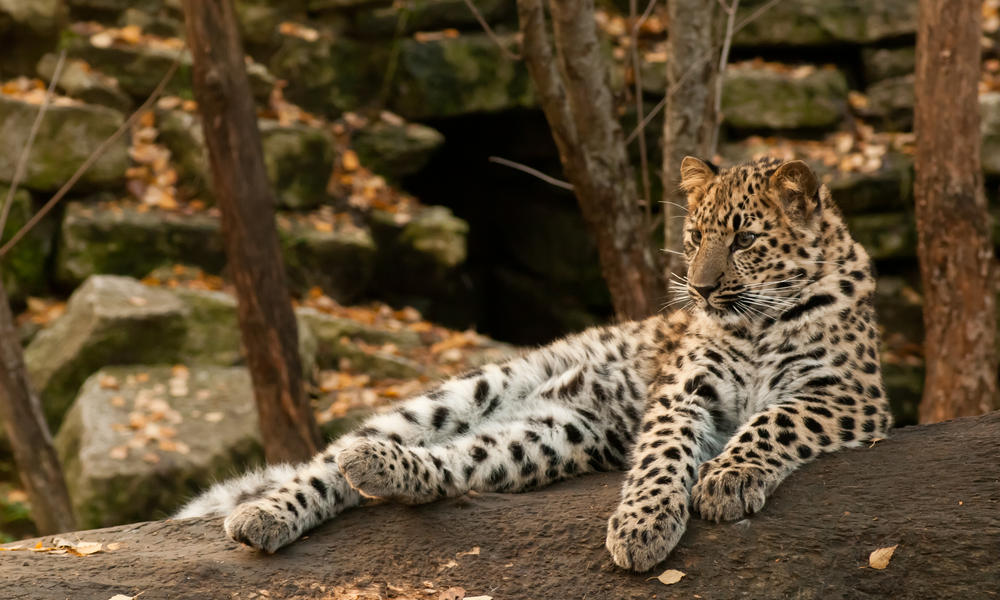amur_leopard: (655, 127, 875, 345)
